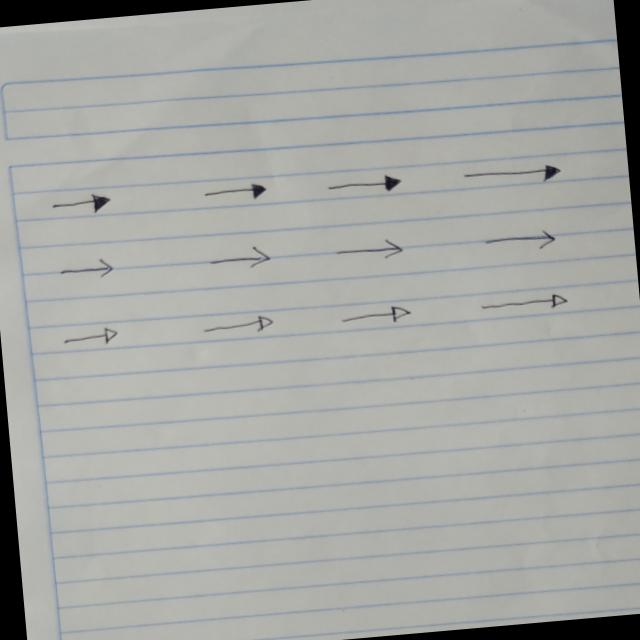arrow_line_right: (462, 156, 565, 192), (479, 288, 569, 316), (332, 234, 407, 266), (325, 170, 405, 199), (338, 301, 412, 331), (482, 227, 558, 254), (200, 178, 272, 206), (49, 188, 114, 218), (201, 310, 275, 336), (56, 254, 118, 284), (208, 244, 274, 272), (62, 325, 120, 348)
